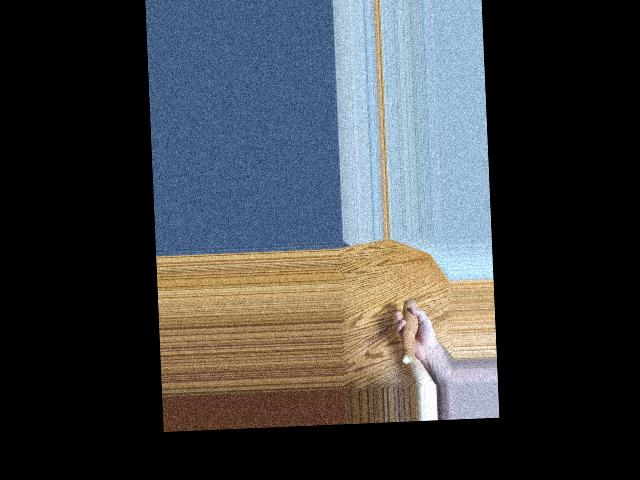sweet_potato: (397, 295, 416, 367)
